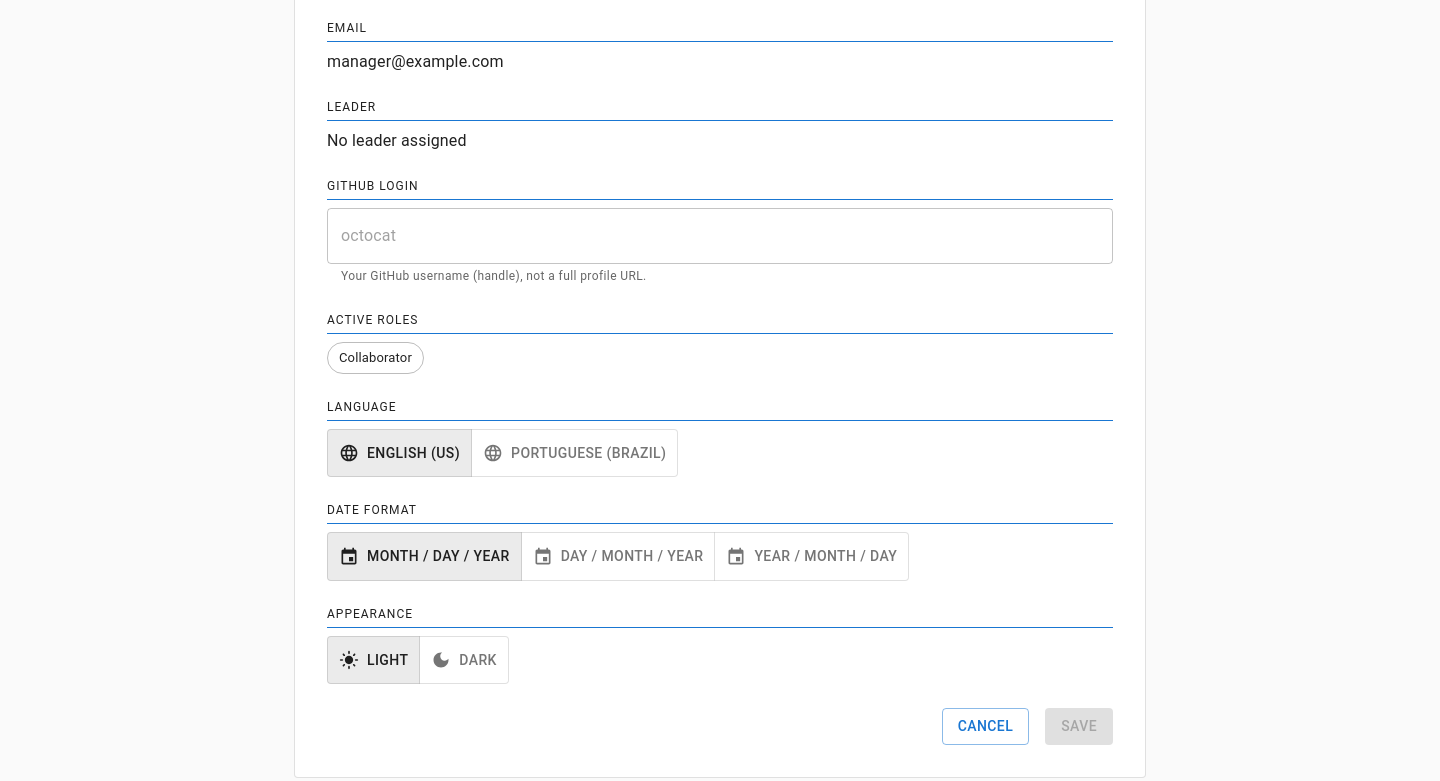
Test: US1 profile page theme › saves theme changes only after clicking Save
(page scrolled)
Click the button with aria-label "Dark theme" at point(464, 660), box [419, 636, 509, 684]
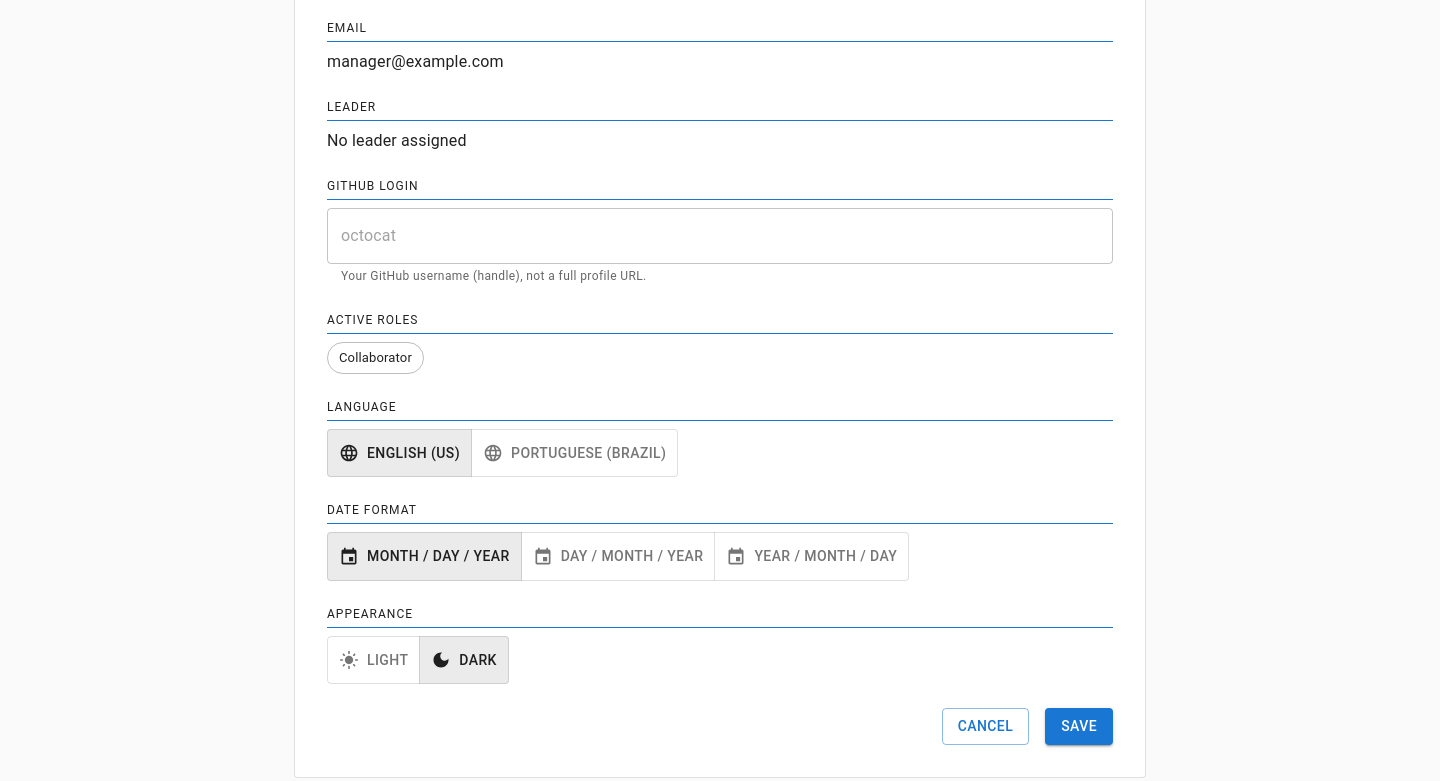
Click the button "Save" at point(1079, 727), box [1045, 708, 1113, 745]
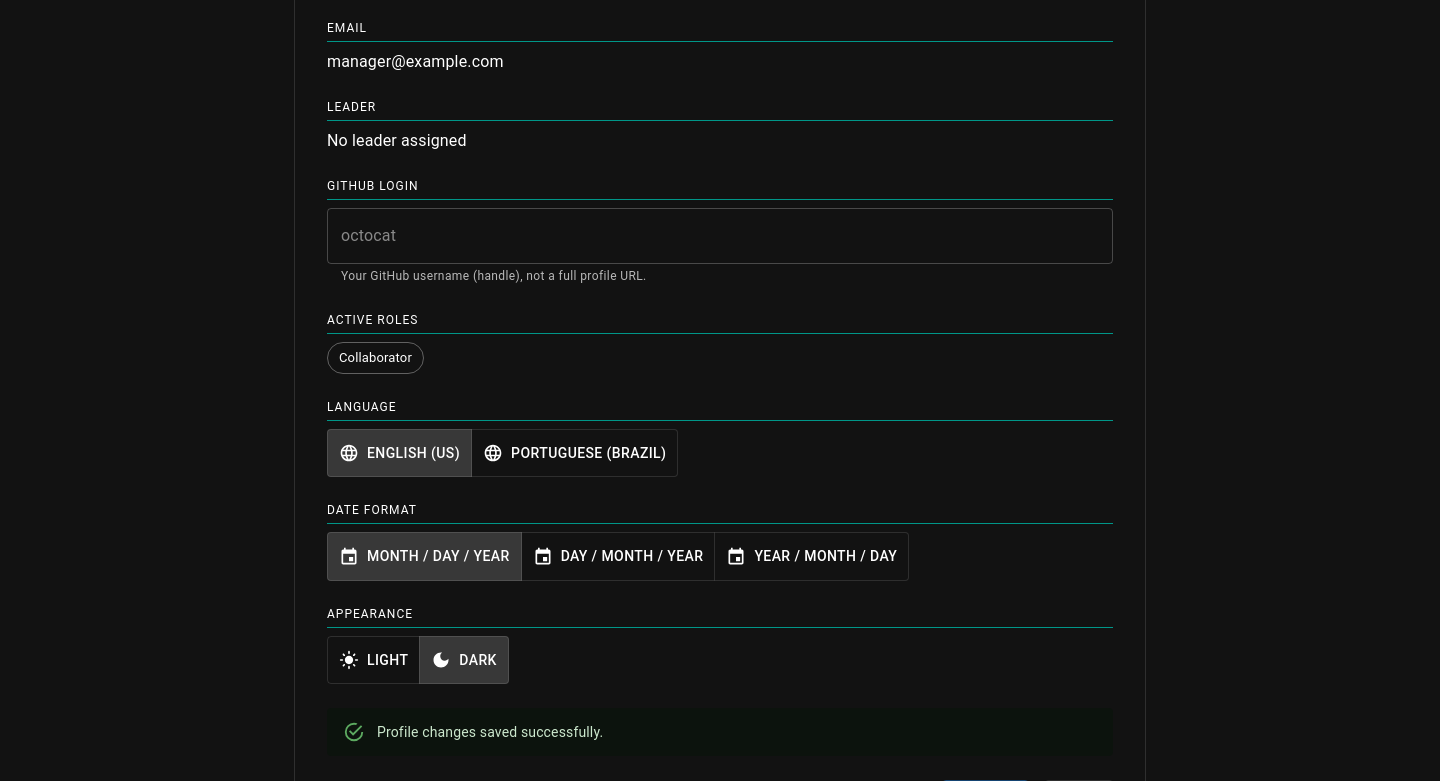
Expected: the text "Profile changes saved successfully." is shown, [377, 724, 603, 740]
